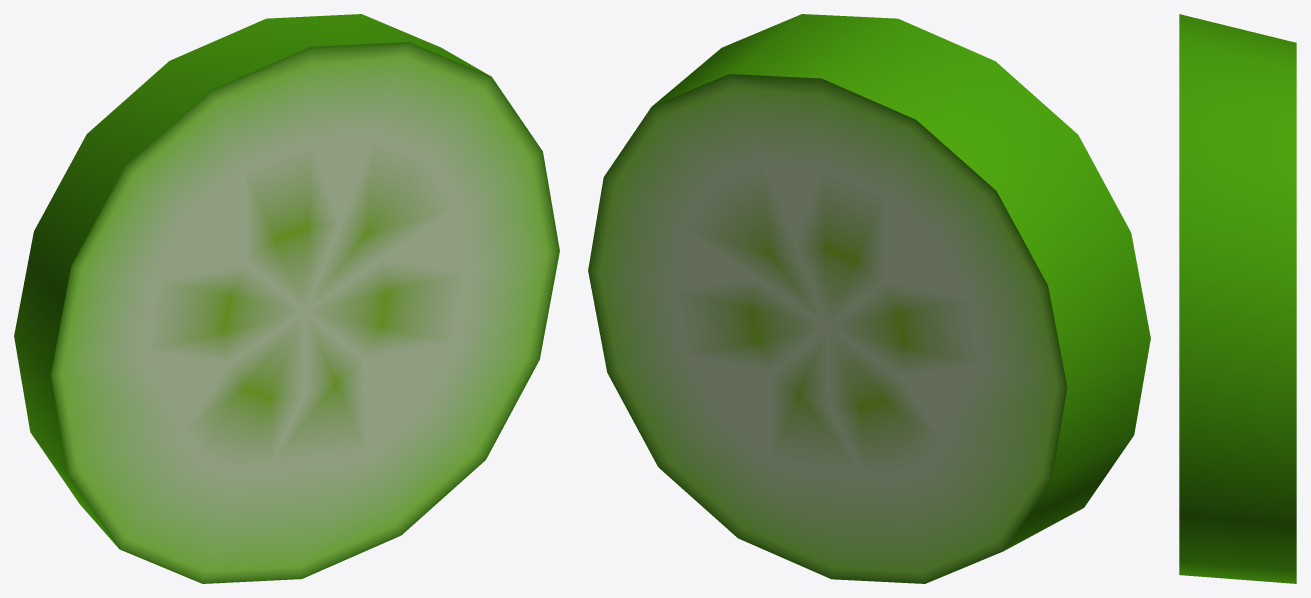
Rendered from Cucumber_Slice_18.fbx.
The picture shows the model from 3 angles, left to right: view 1: azimuth 30°, elevation 25°; view 2: azimuth 150°, elevation 25°; view 3: azimuth 270°, elevation 25°; orthographic projection. The views are drawn at different scales.
Visible parts, largest first — view 1: Cucumber_Slice_18; view 2: Cucumber_Slice_18; view 3: Cucumber_Slice_18.
Part boxes in pixels (x1,y1,x2,y2): Cucumber_Slice_18: (14, 14, 559, 583); Cucumber_Slice_18: (588, 14, 1150, 583); Cucumber_Slice_18: (1179, 14, 1296, 583).
Size of the model in its own units: 4.18 by 4.11 by 0.8573.
